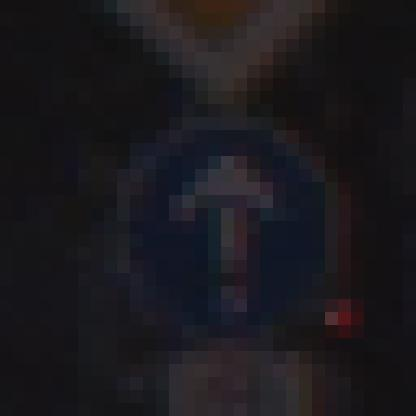AheadOnly: (79, 79, 339, 339)
